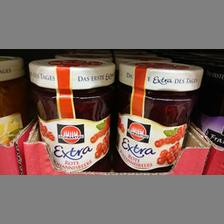Marmelade: (113, 60, 203, 173), (27, 56, 113, 172)
